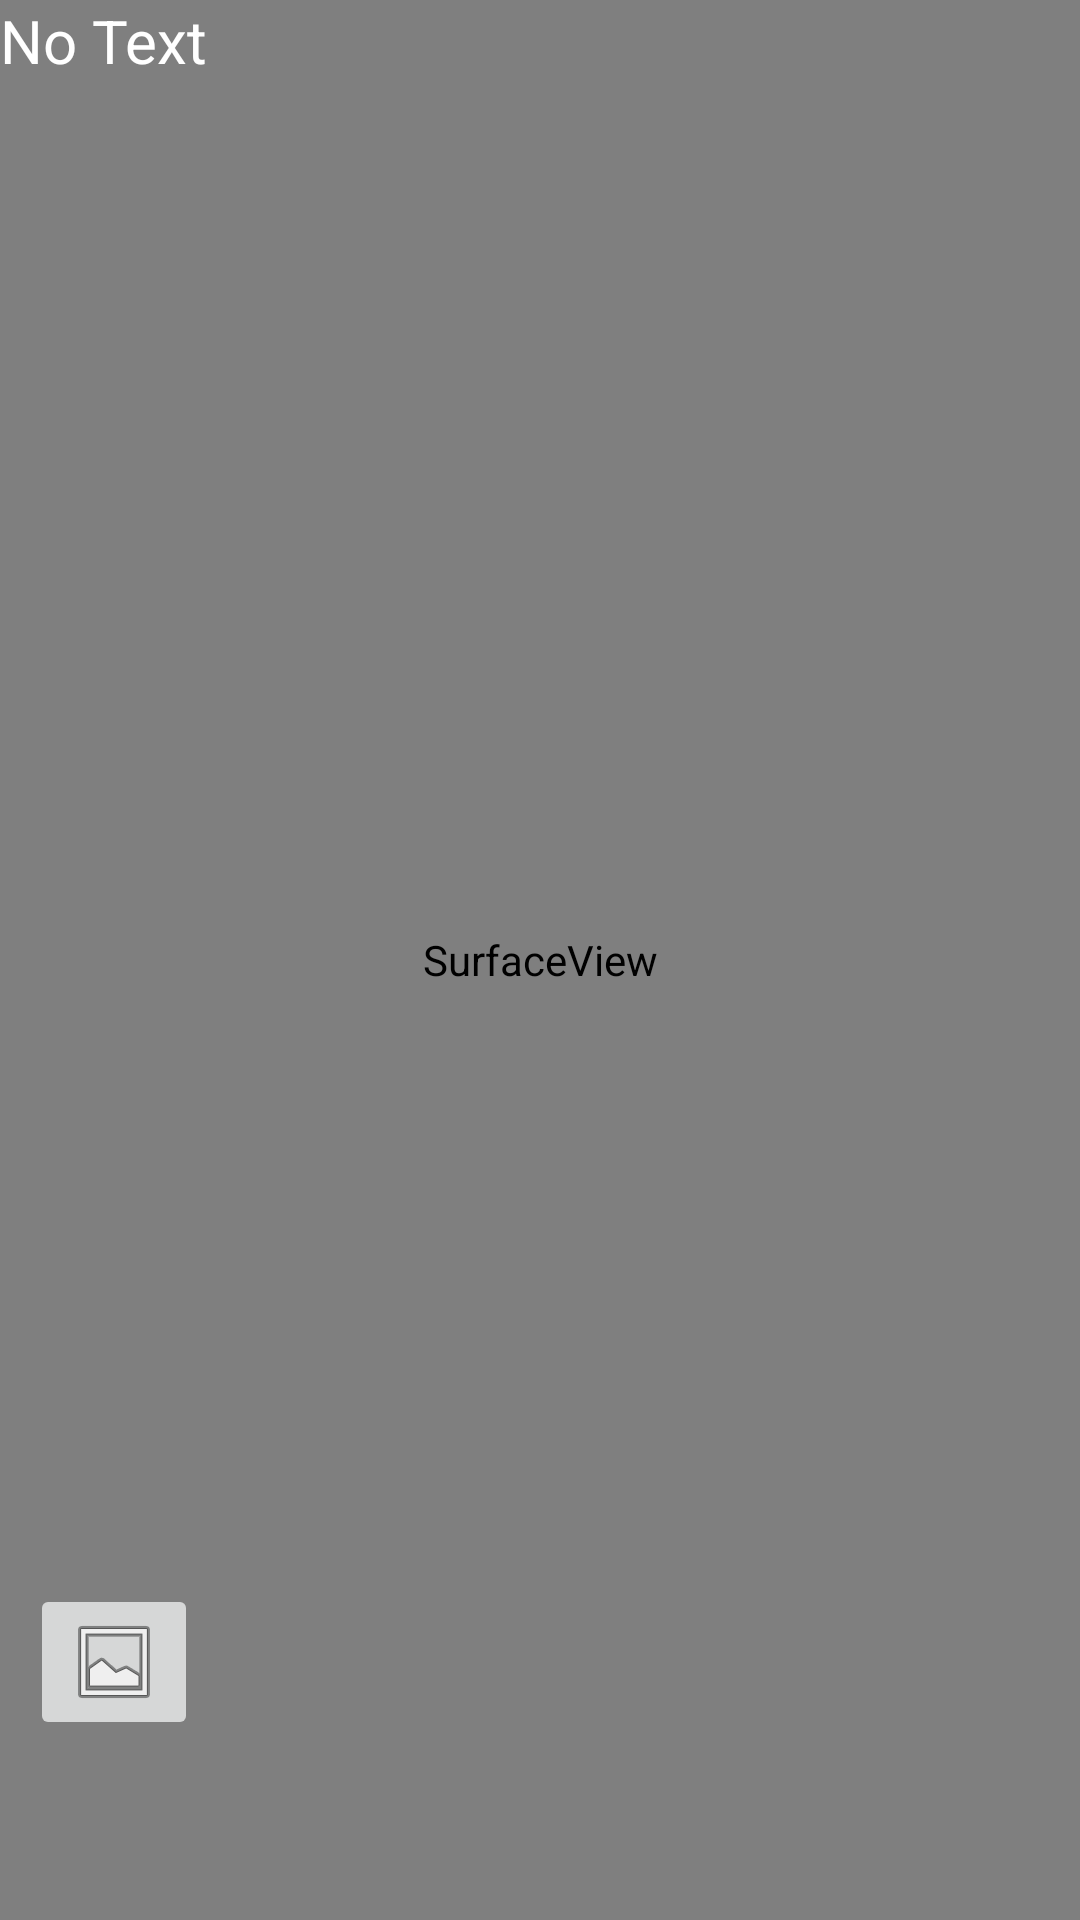

Screen size 1080 x 1920. Icon name, then its center in pixels as (x,y):
gallery: (114,1662)
